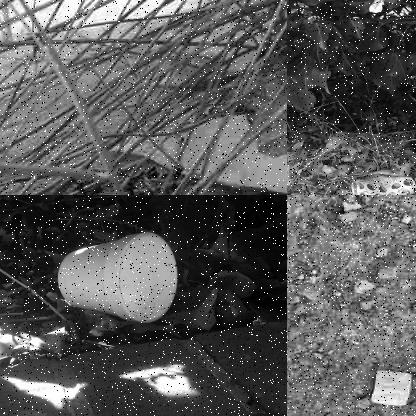plastic: (112, 115, 286, 194), (57, 238, 178, 315), (371, 366, 409, 406), (352, 175, 415, 194)
